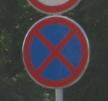No Parking: (23, 18, 91, 89)
